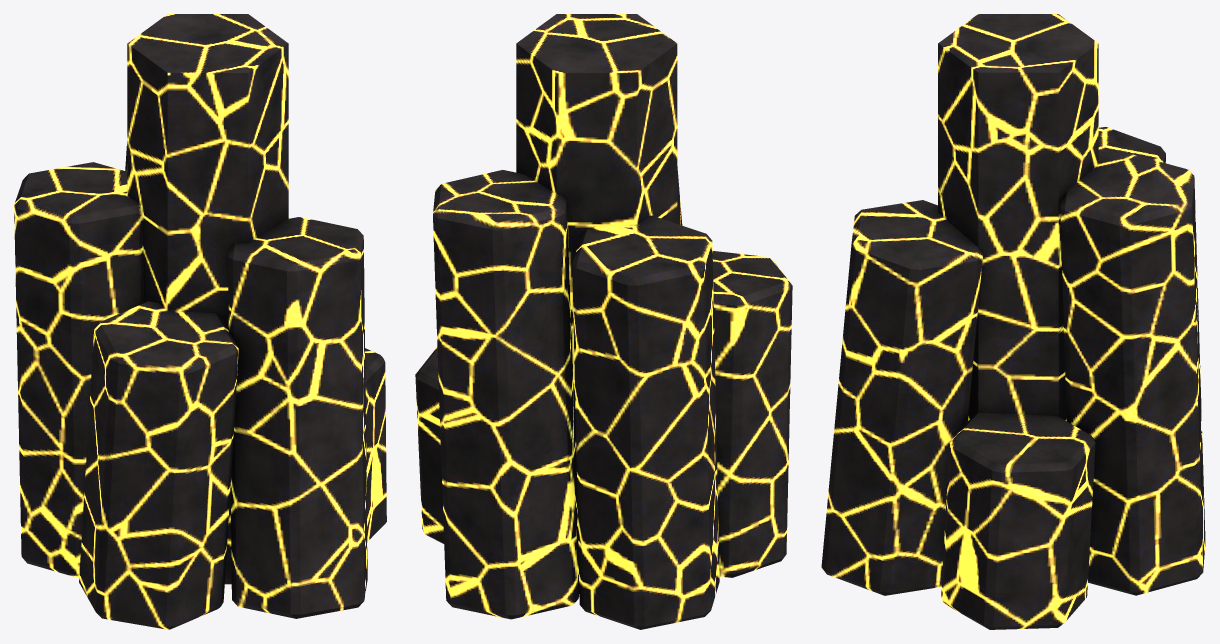
Rendered from escoria_basalto_brasa_b.glb.
3 renders of one model, left to right at view 1: azimuth 30°, elevation 25°; view 2: azimuth 150°, elevation 25°; view 3: azimuth 270°, elevation 25°, orthographic.
Visible parts, largest first — view 1: escoria_basalto_brasa_b_tronco; view 2: escoria_basalto_brasa_b_tronco; view 3: escoria_basalto_brasa_b_tronco.
Boxes of the visible parts, x1,y1,x2,y2 form: escoria_basalto_brasa_b_tronco: (14,14,386,629); escoria_basalto_brasa_b_tronco: (415,14,792,629); escoria_basalto_brasa_b_tronco: (821,14,1205,629).
Bounding box in the file's own units: 1.82 × 2.83 × 1.91.
1 material, 1 textured.
